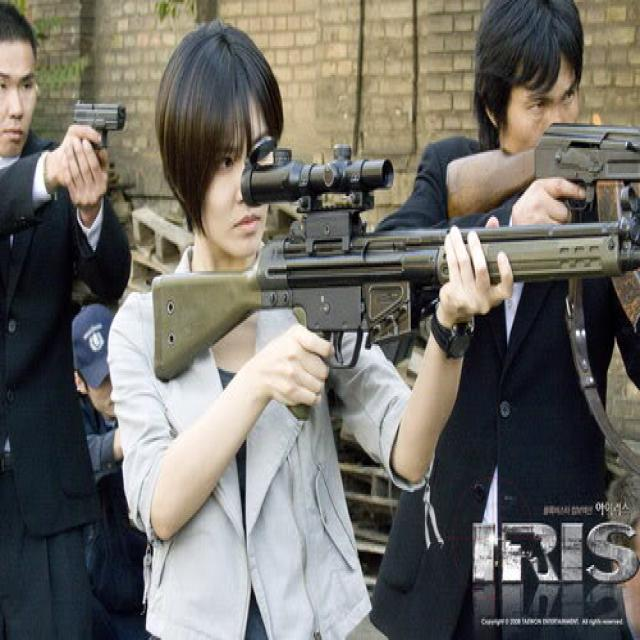rifle: (148, 157, 640, 424)
